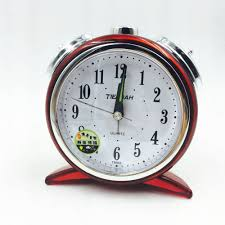alarm_clock: (43, 30, 198, 197)
